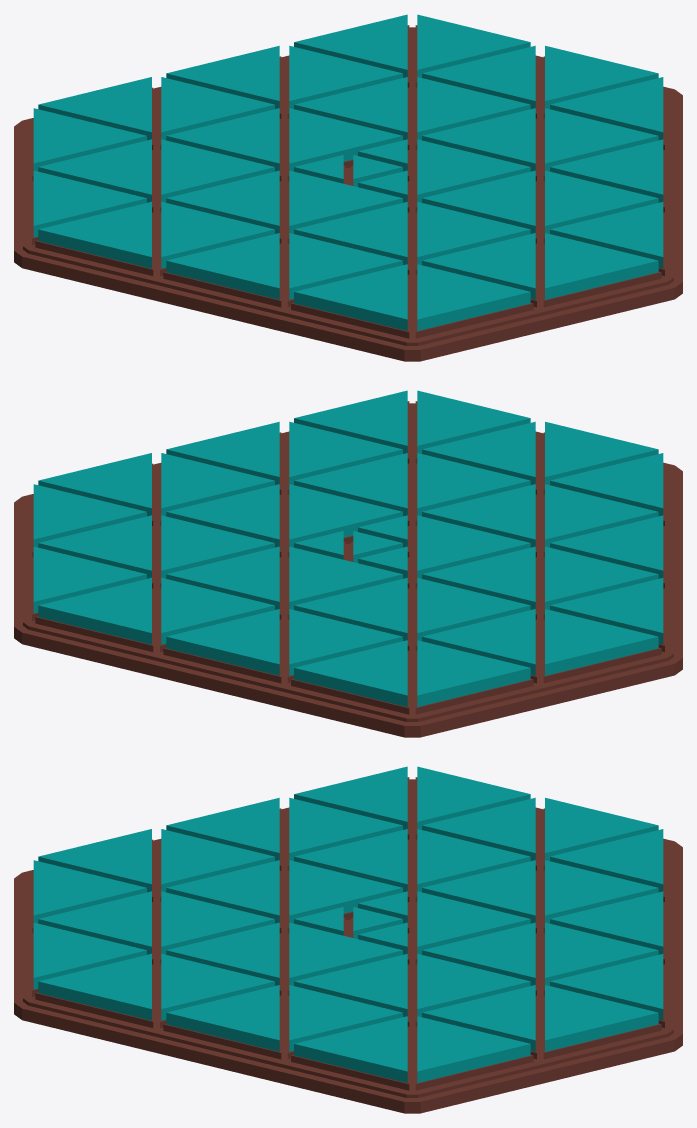
The model's file is atlantis_keypad.obj.
3 renders of one model, top to bottom at view 1: azimuth 30°, elevation 25°; view 2: azimuth 150°, elevation 25°; view 3: azimuth 270°, elevation 25°, orthographic.
Bounding box in the file's own units: 0.7412 × 0.0356 × 0.6498.
